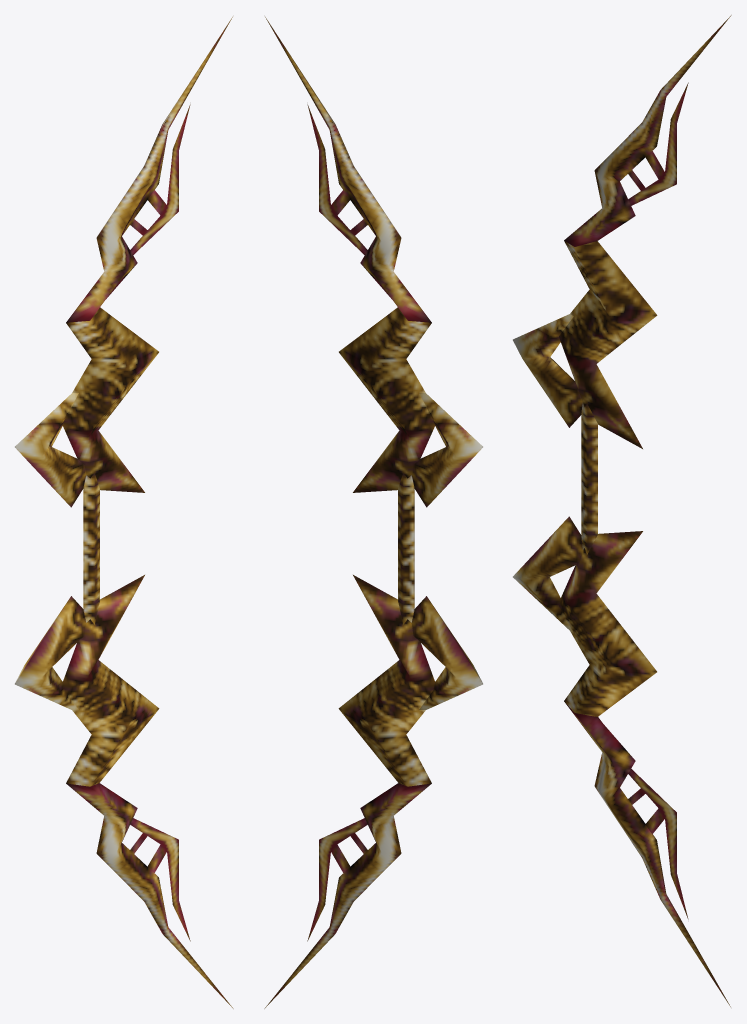
File: wlb_0020-gold.glb
3 views of the same model, side by side, from view 1: azimuth 30°, elevation 25°; view 2: azimuth 150°, elevation 25°; view 3: azimuth 330°, elevation 25° (orthographic).
Size of the model in its own units: 0.46 by 1.99 by 0.0699.
Materials: 1 (1 with a texture image).
